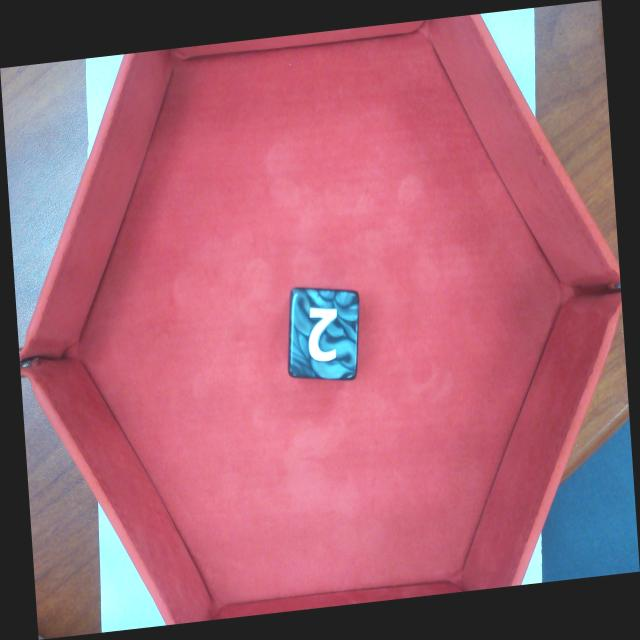dice: (288, 288, 359, 383)
